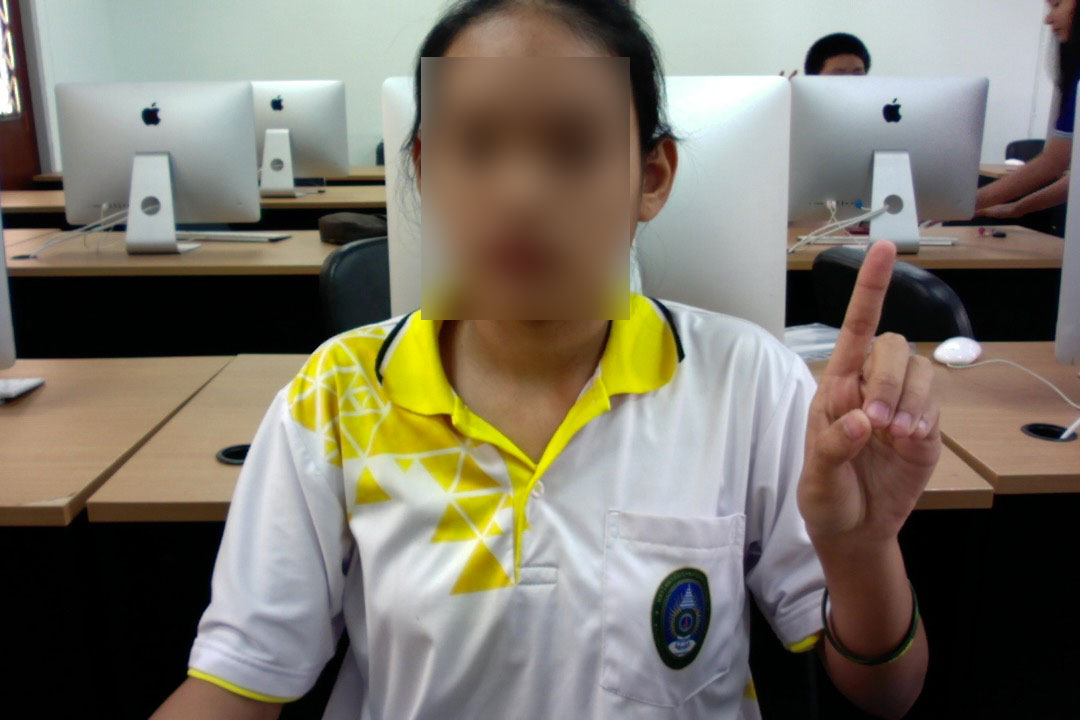dor: (791, 232, 953, 549)
